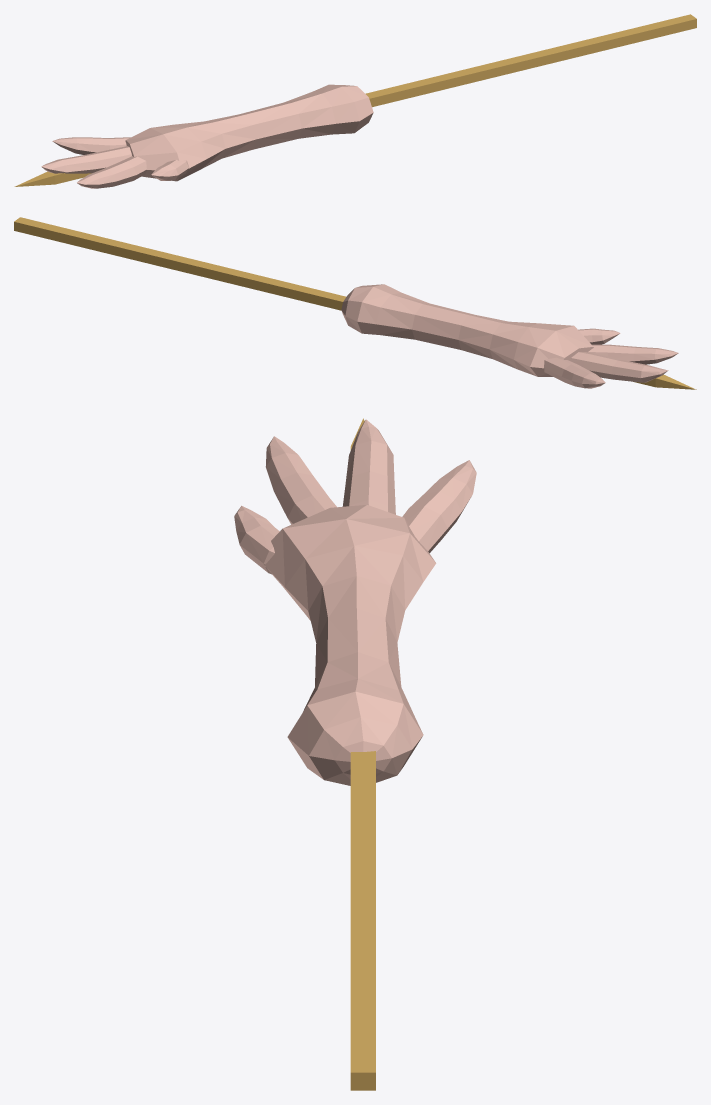
Rendered from SM_Cook_SkewerChickenFeet_Raw_01.fbx.
The picture shows the model from 3 angles, top to bottom: view 1: azimuth 30°, elevation 25°; view 2: azimuth 150°, elevation 25°; view 3: azimuth 270°, elevation 25°; orthographic projection. The views are drawn at different scales.
Parts seen in each view (by area): view 1: SM_Cook_SkewerChickenFeet_Raw_01; view 2: SM_Cook_SkewerChickenFeet_Raw_01; view 3: SM_Cook_SkewerChickenFeet_Raw_01.
Part boxes in pixels (box(x1,y1,x2,y2)): SM_Cook_SkewerChickenFeet_Raw_01: box(14, 14, 696, 188); SM_Cook_SkewerChickenFeet_Raw_01: box(14, 217, 696, 389); SM_Cook_SkewerChickenFeet_Raw_01: box(234, 418, 476, 1090).
Size of the model in its own units: 0.25 by 0.0156 by 0.0386.
Materials: 1 (1 with a texture image).
